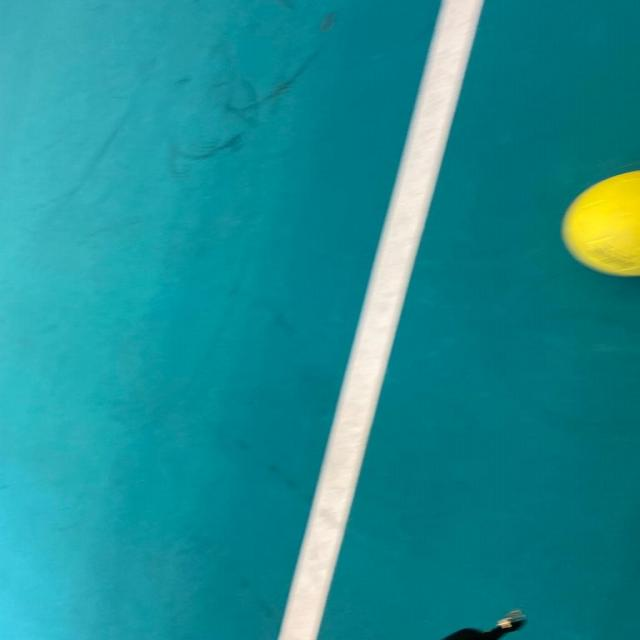ball: (548, 156, 640, 289)
